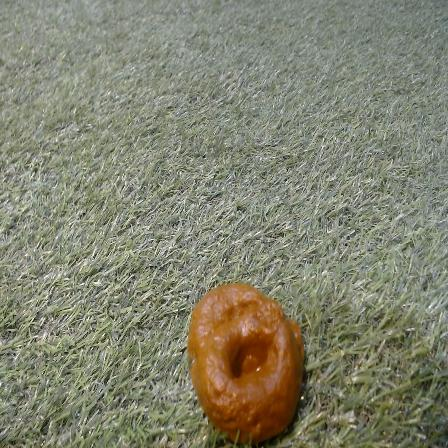dog-poop: (189, 278, 303, 436)
